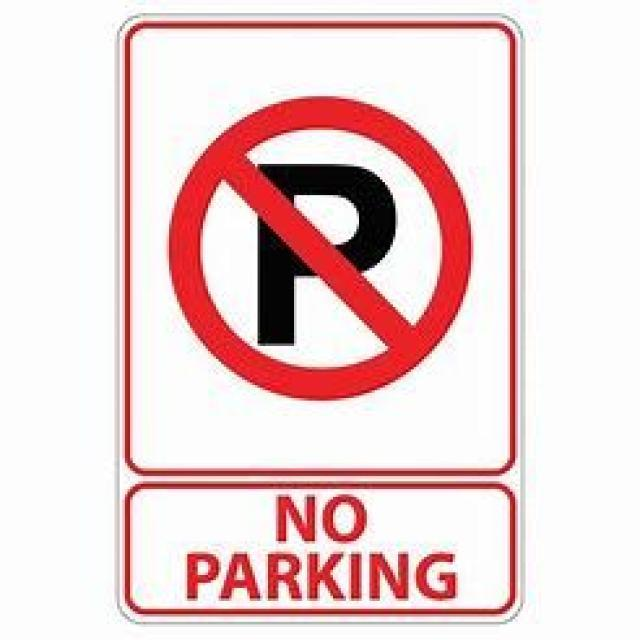no parking: (162, 91, 478, 404)
